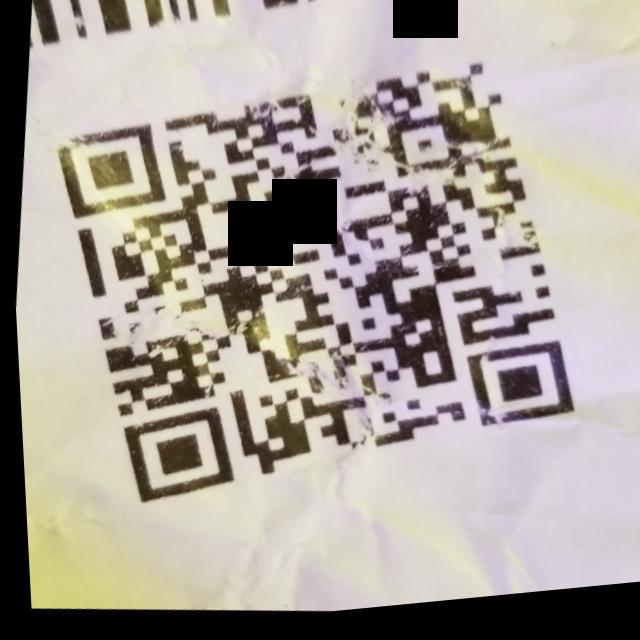QR_CODE: (2, 6, 618, 573)
